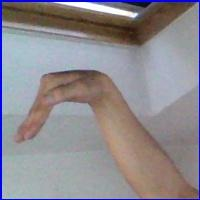del: (9, 70, 126, 154)
